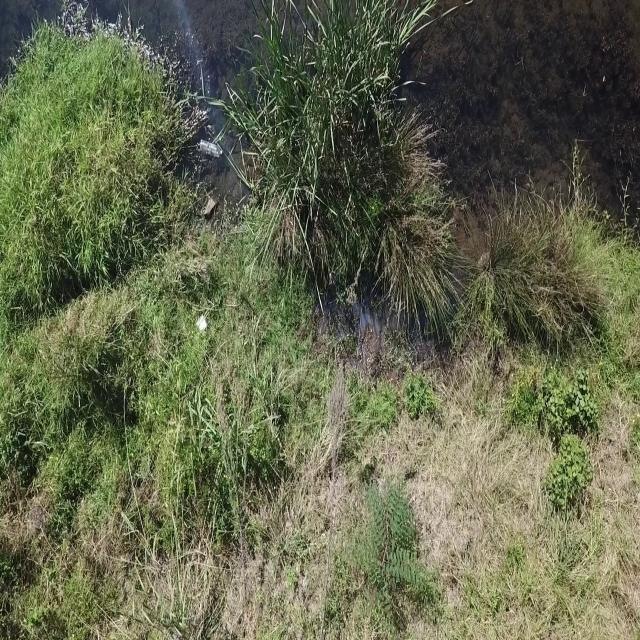Mysore-Thorn-Weed: (347, 471, 438, 620)
